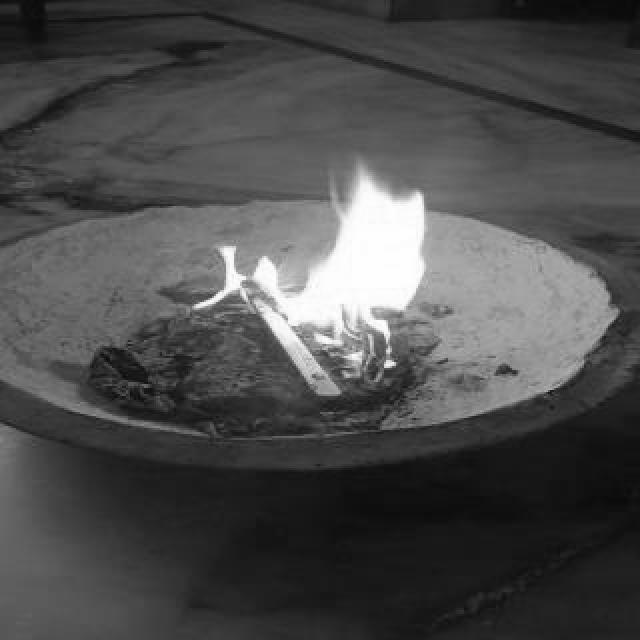Fire: (190, 152, 442, 376)
